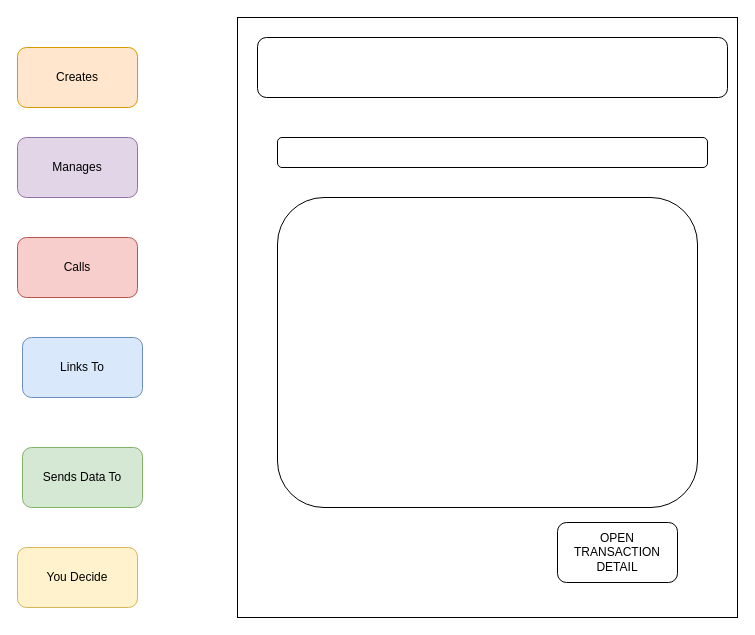
This 755x635 diagram has some shape labels left out. Here are the shapes that lost their labels. From the top down, the box of each, then its label:
(256, 36, 728, 98): TRANSACTIONS HISTORY
(276, 136, 708, 168): SEARCH TRANSACTION
(276, 196, 698, 508): TRANSACTION LIST
